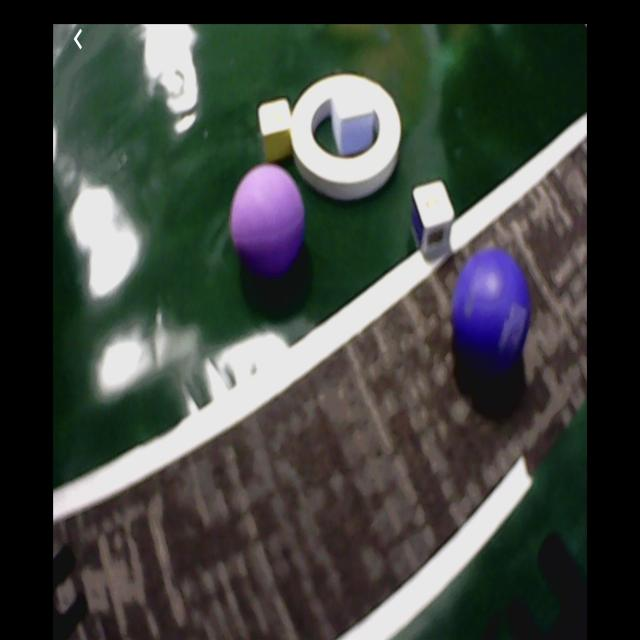ball: (457, 249, 531, 362), (231, 166, 305, 272)
